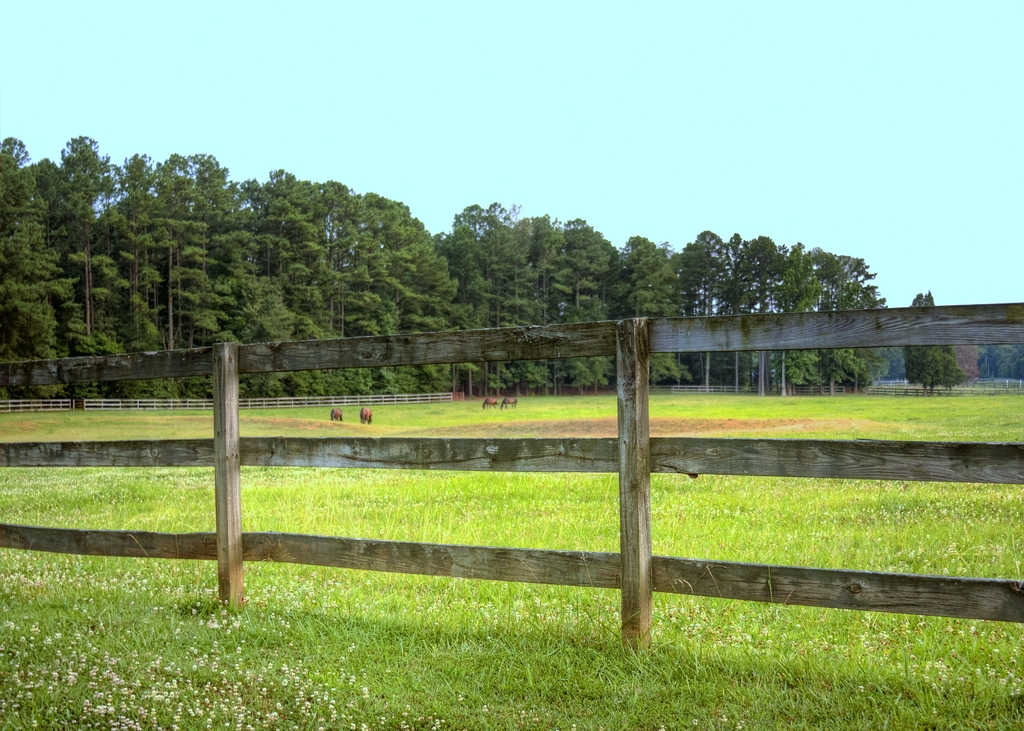Tree: (0, 134, 1024, 409)
